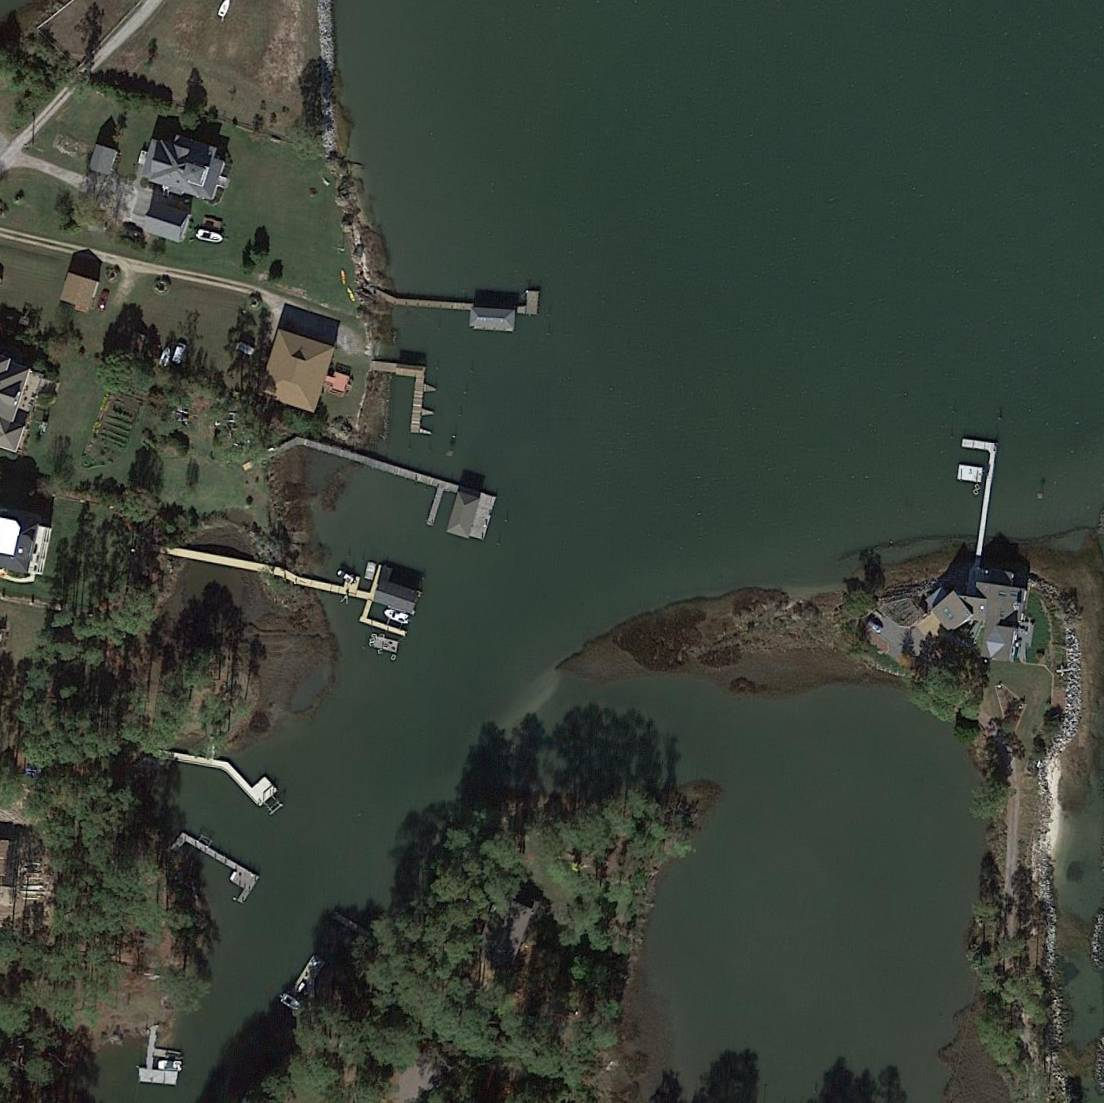harbor: (341, 454, 497, 545), (321, 551, 427, 639), (404, 285, 540, 332), (947, 437, 999, 549), (179, 840, 262, 905), (390, 363, 439, 435), (221, 751, 280, 810), (138, 1026, 182, 1084)
ship: (380, 605, 414, 627), (193, 226, 228, 247), (277, 991, 304, 1014), (156, 1057, 184, 1072)
small vehicle: (863, 616, 888, 637), (170, 341, 188, 365), (145, 337, 163, 360), (97, 289, 111, 312), (235, 340, 255, 357)
